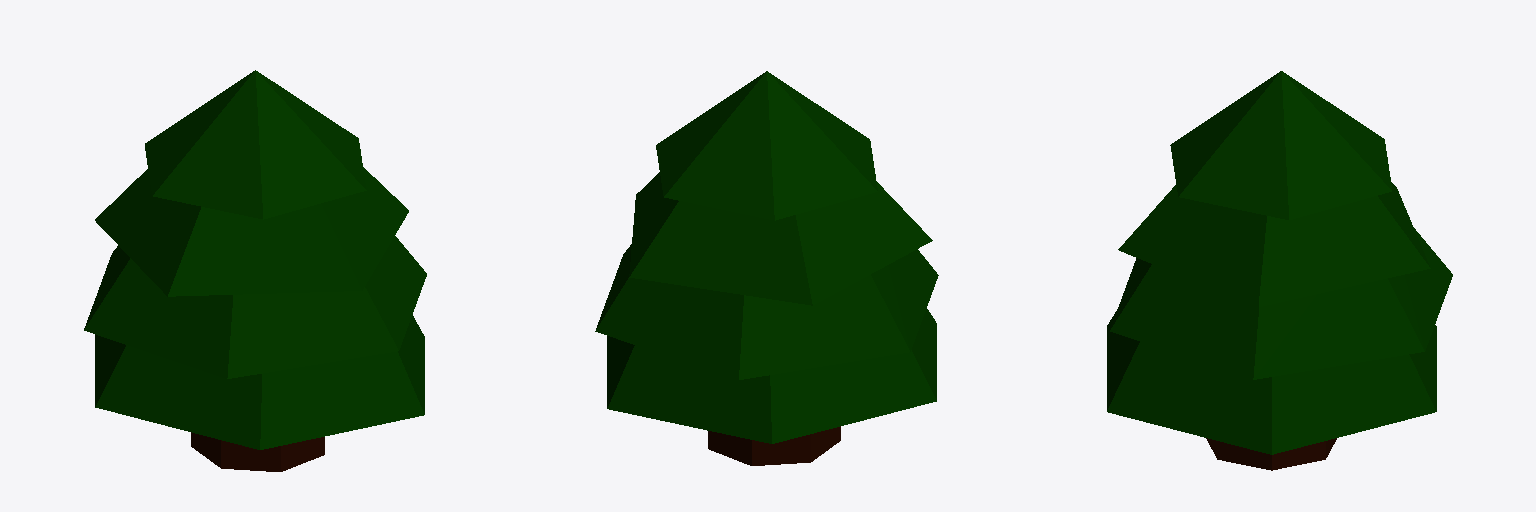
The model's file is evergreen_01.obj.
3 views of the same model, side by side, from view 1: azimuth 30°, elevation 25°; view 2: azimuth 150°, elevation 25°; view 3: azimuth 270°, elevation 25° (orthographic).
Visible parts, largest first — view 1: Cylinder001; view 2: Cylinder001; view 3: Cylinder001.
Boxes of the visible parts, <box> form: Cylinder001: <box>84,70,426,471</box>; Cylinder001: <box>595,71,938,465</box>; Cylinder001: <box>1107,71,1452,470</box>.
Bounding box in the file's own units: 110 × 118 × 100.